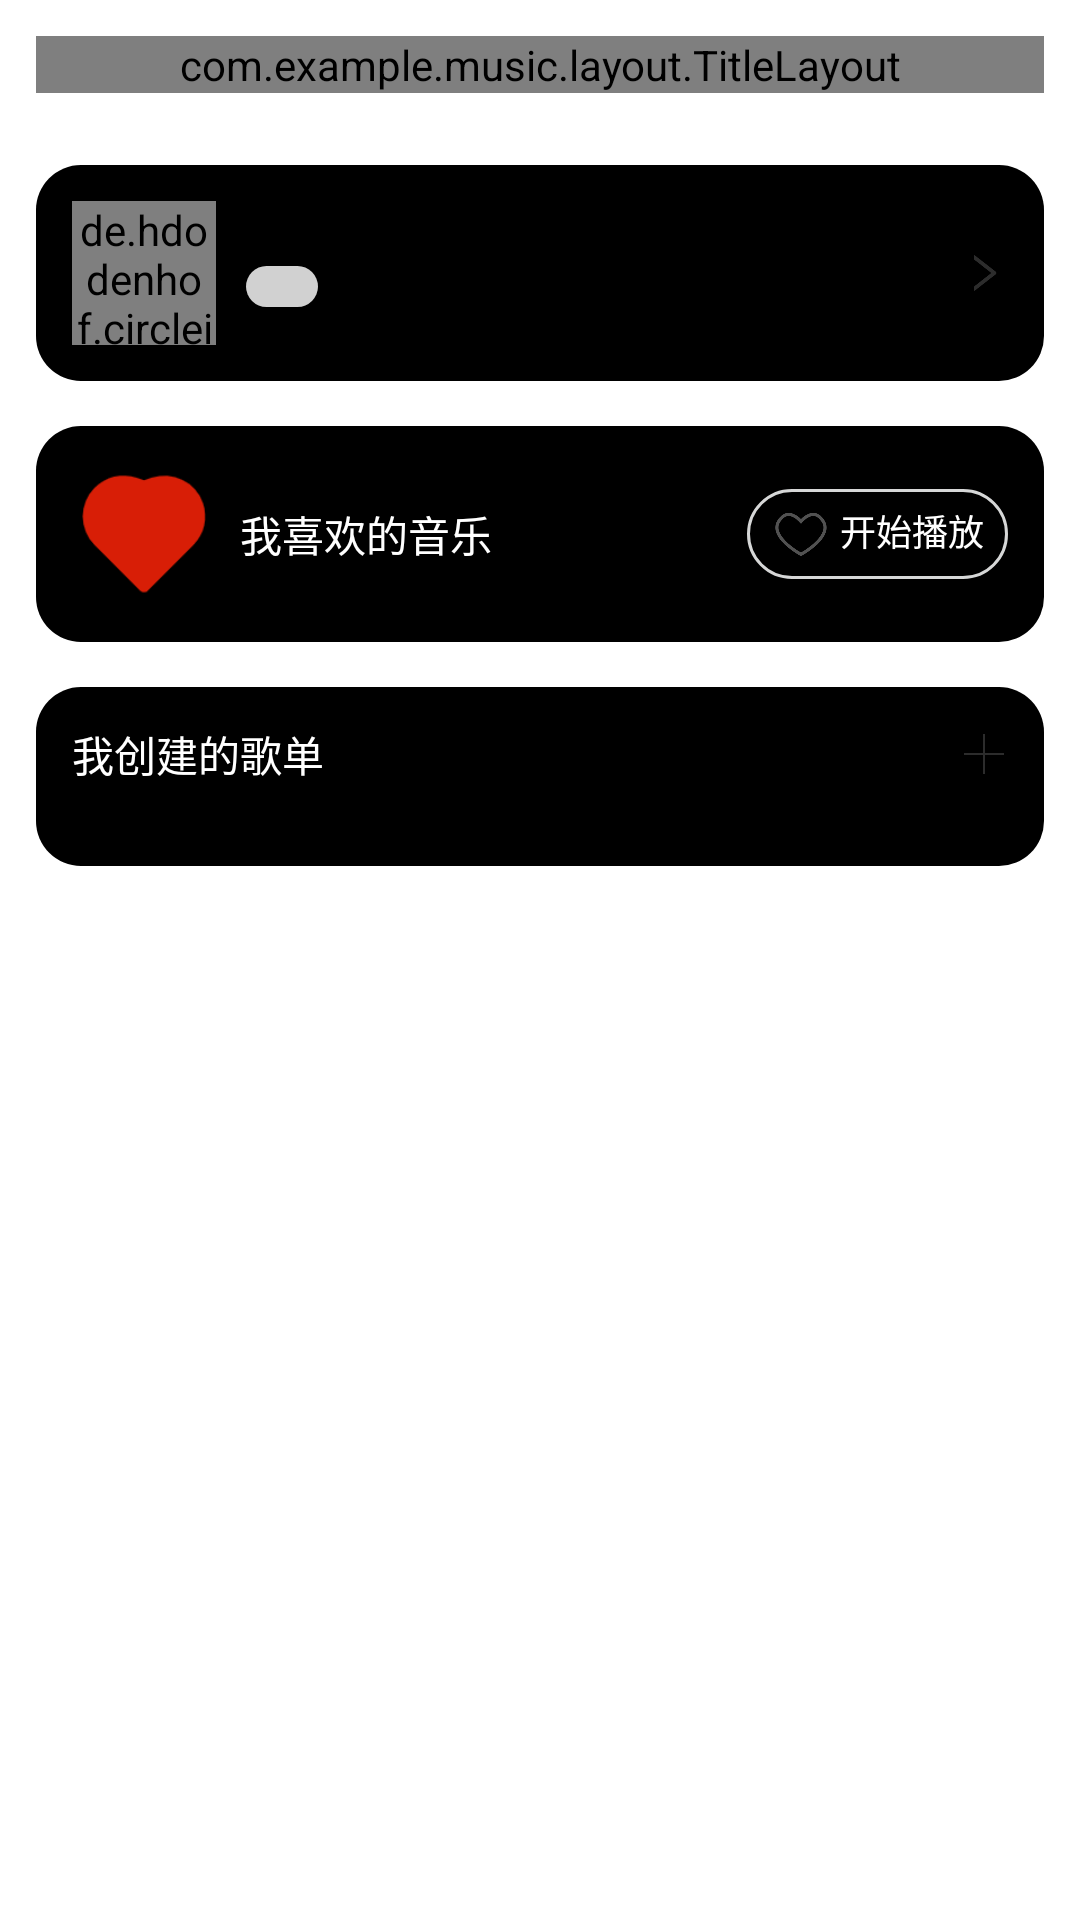

Named icons in this screenshot (1080 x 1920) and their centers, point (x, y):
arrow right: point (985, 273)
love: point (144, 534), point (801, 534)
plus: point (984, 754)
